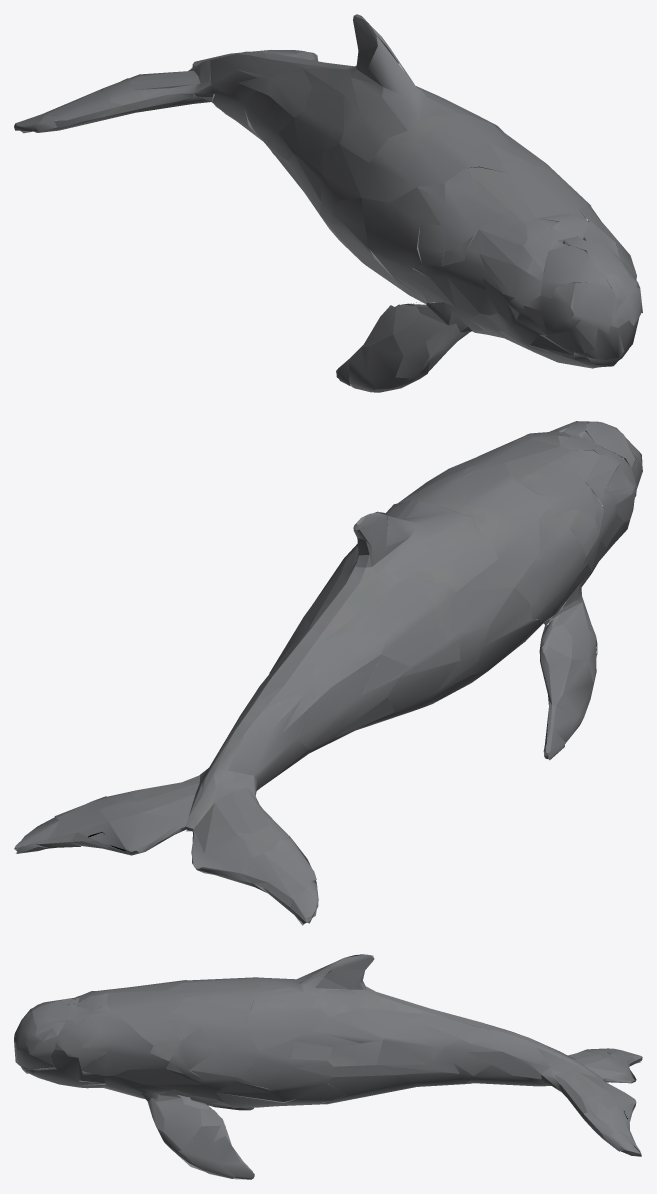
The model's file is dolphin.glb.
3 renders of one model, top to bottom at view 1: azimuth 30°, elevation 25°; view 2: azimuth 150°, elevation 25°; view 3: azimuth 270°, elevation 25°, orthographic. The views are drawn at different scales.
Parts seen in each view (by area): view 1: output_unwrapped; view 2: output_unwrapped; view 3: output_unwrapped.
Part boxes in pixels (x1,y1,x2,y2): output_unwrapped: (14, 14, 642, 392); output_unwrapped: (14, 421, 642, 925); output_unwrapped: (14, 954, 642, 1179).
Size of the model in its own units: 0.8563 by 0.7724 by 2.3.
Materials: 1 (1 with a texture image).
